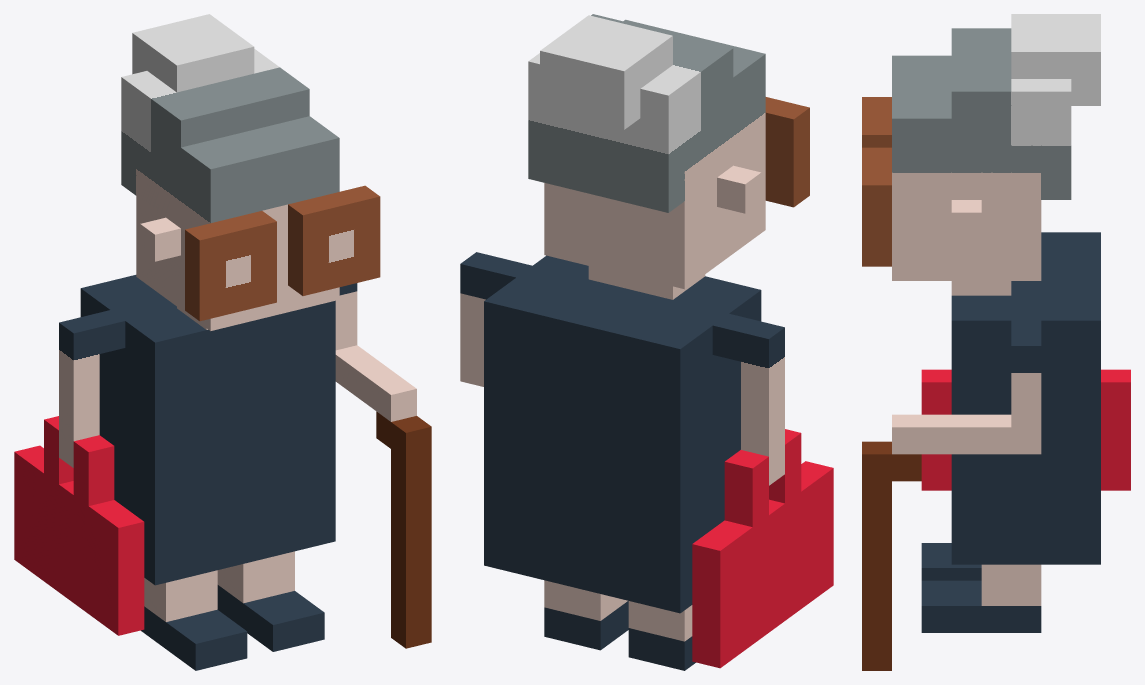
File: Grand_Mother.dae
3 views of the same model, side by side, from view 1: azimuth 30°, elevation 25°; view 2: azimuth 150°, elevation 25°; view 3: azimuth 270°, elevation 25° (orthographic). The views are drawn at different scales.
Parts seen in each view (by area): view 1: pizza_men_10; view 2: pizza_men_10; view 3: pizza_men_10.
Part boxes in pixels (left/top/right/bottom): pizza_men_10: left=14, top=14, right=431, bottom=670; pizza_men_10: left=460, top=14, right=833, bottom=670; pizza_men_10: left=862, top=14, right=1130, bottom=670.
Size of the model in its own units: 11 by 21 by 9.
1 material, 1 textured.
